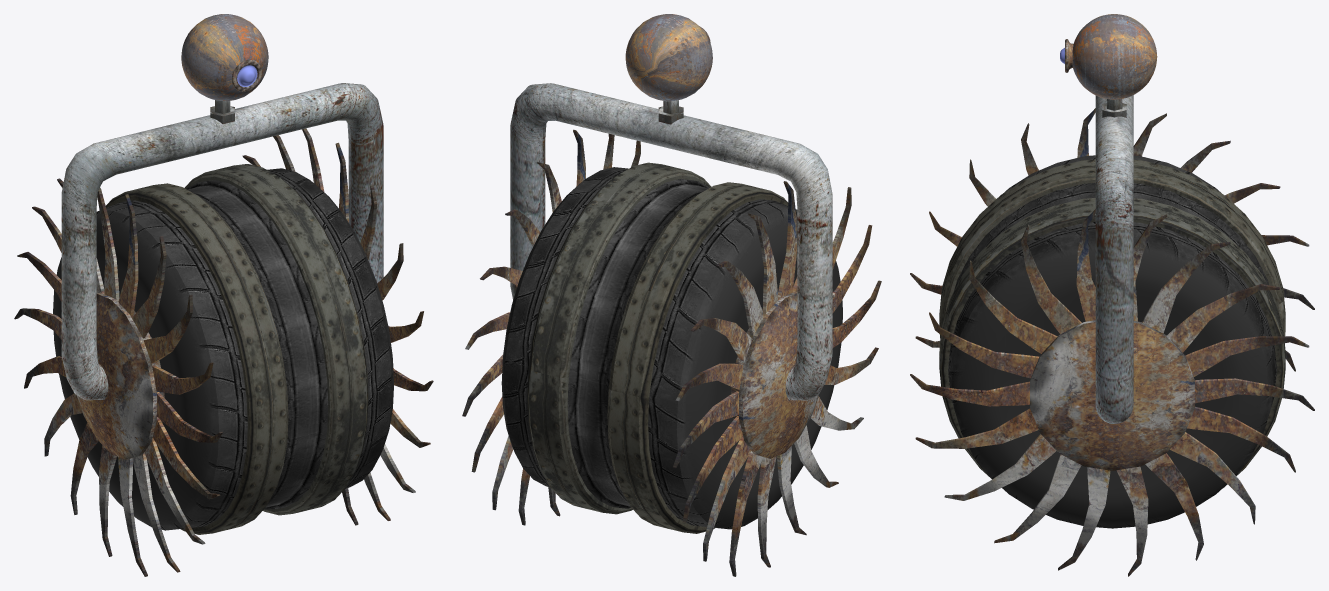
The model's file is Scout.FBX.
3 views of the same model, side by side, from view 1: azimuth 30°, elevation 25°; view 2: azimuth 150°, elevation 25°; view 3: azimuth 270°, elevation 25° (orthographic).
Parts seen in each view (by area): view 1: scout_tire, Cylinder002, scout_pipe, Line005, scout_body, GeoSphere001, Cylinder005; view 2: scout_tire, Cylinder002, scout_pipe, Line005, scout_body, GeoSphere001; view 3: scout_tire, Line005, Cylinder002, scout_body, scout_pipe, GeoSphere001.
Boxes of the visible parts, bbox=[...] form: scout_tire: bbox=[53, 168, 393, 530]; Cylinder002: bbox=[105, 164, 368, 534]; scout_pipe: bbox=[61, 83, 383, 400]; Line005: bbox=[14, 128, 433, 576]; scout_body: bbox=[76, 292, 164, 459]; GeoSphere001: bbox=[181, 14, 268, 101]; Cylinder005: bbox=[231, 59, 262, 91]; scout_tire: bbox=[501, 167, 842, 529]; Cylinder002: bbox=[527, 162, 788, 533]; scout_pipe: bbox=[510, 83, 832, 400]; Line005: bbox=[462, 129, 881, 576]; scout_body: bbox=[731, 291, 819, 458]; GeoSphere001: bbox=[625, 14, 712, 101]; scout_tire: bbox=[948, 155, 1276, 528]; Line005: bbox=[910, 108, 1314, 576]; Cylinder002: bbox=[939, 159, 1285, 487]; scout_body: bbox=[1030, 320, 1194, 470]; scout_pipe: bbox=[1095, 95, 1133, 423]; GeoSphere001: bbox=[1072, 14, 1157, 99].
Size of the model in its own units: 35.51 by 55.57 by 40.08.
